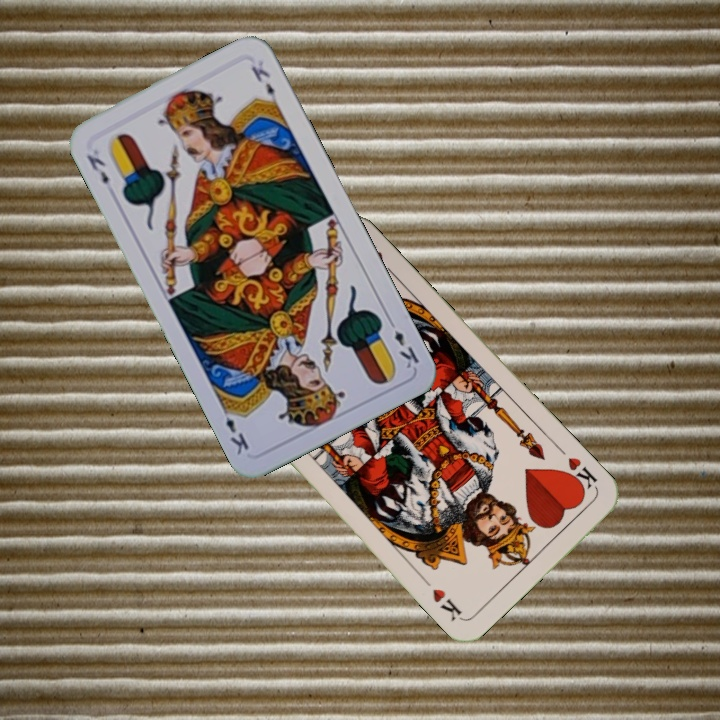EK: (384, 314, 422, 371), (82, 150, 112, 188)
HK: (559, 453, 600, 496)
